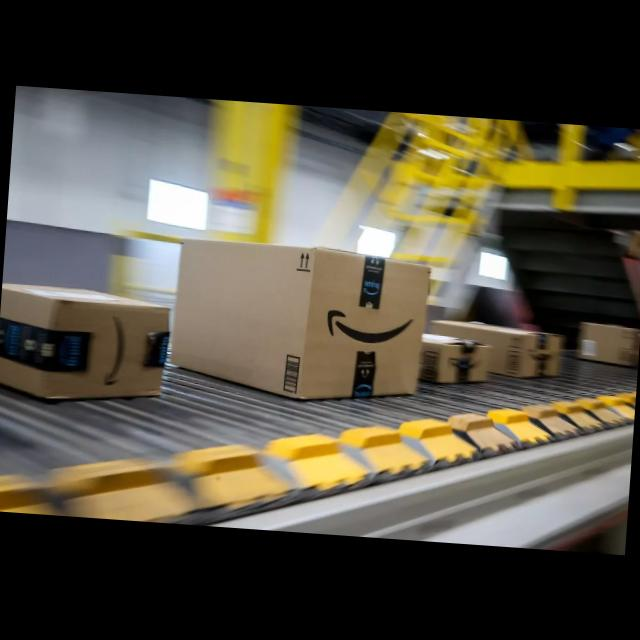box: (167, 235, 429, 408), (0, 281, 171, 407), (428, 319, 561, 371), (418, 338, 489, 386), (579, 321, 640, 365)
